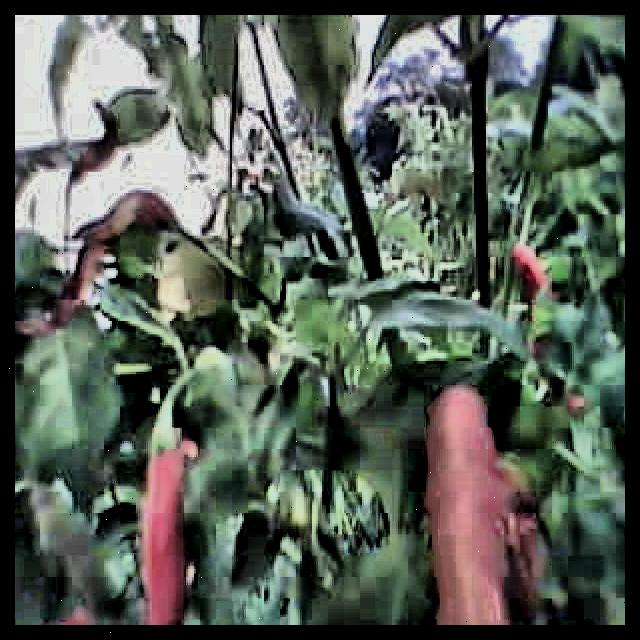Cabai: (116, 414, 206, 625), (430, 387, 504, 625), (59, 197, 177, 290)
